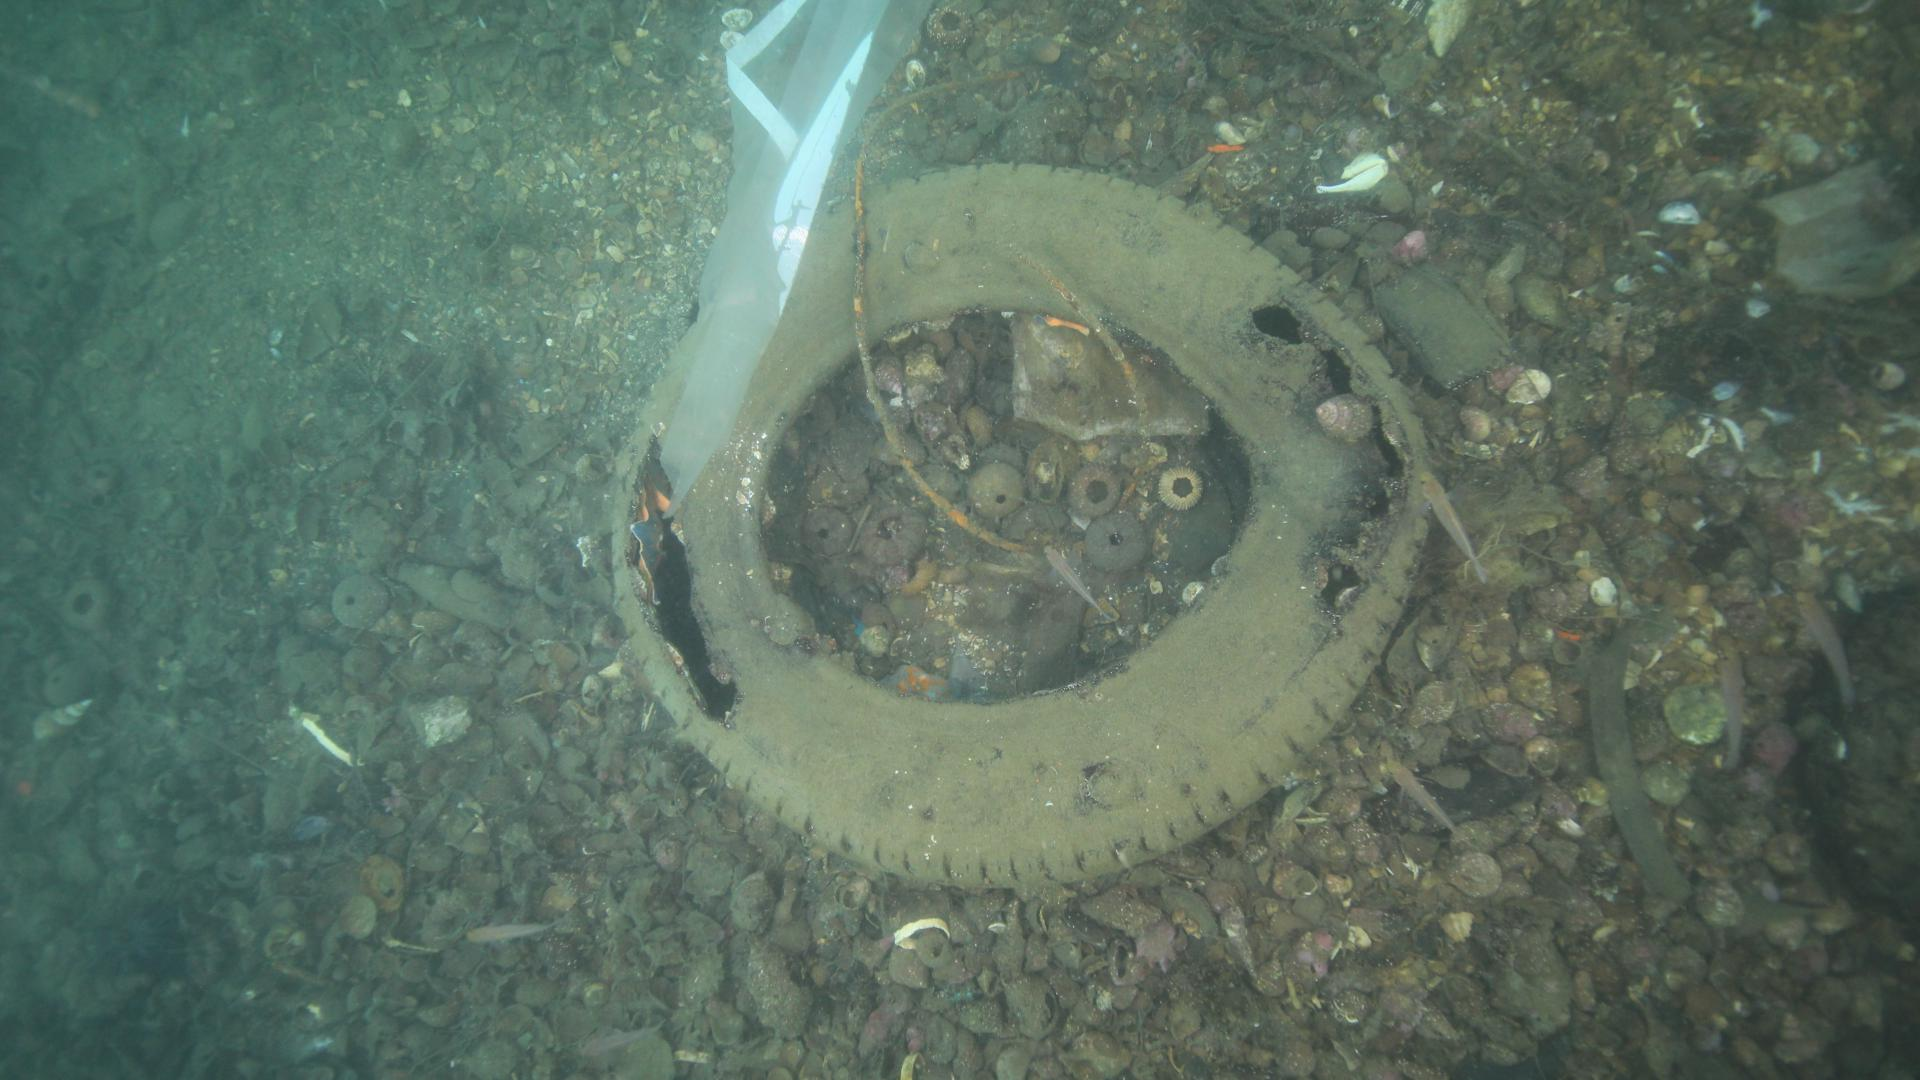tire: (597, 157, 1435, 895)
